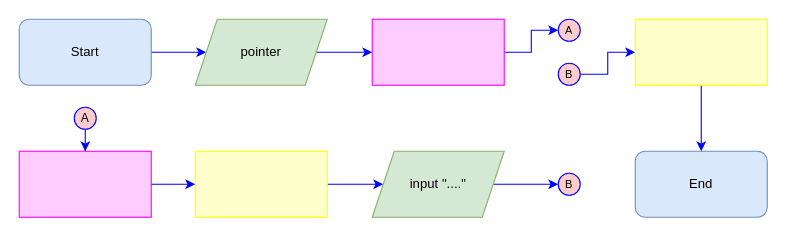
This 787x237 diagram has some shape labels left out. Each missing label, with the centre of its shape:
create new pointer: pixel 84 183
function(pointer): pixel 437 51
Write "Enter the text : ": pixel 260 183
Write "text is : ...": pixel 700 51
